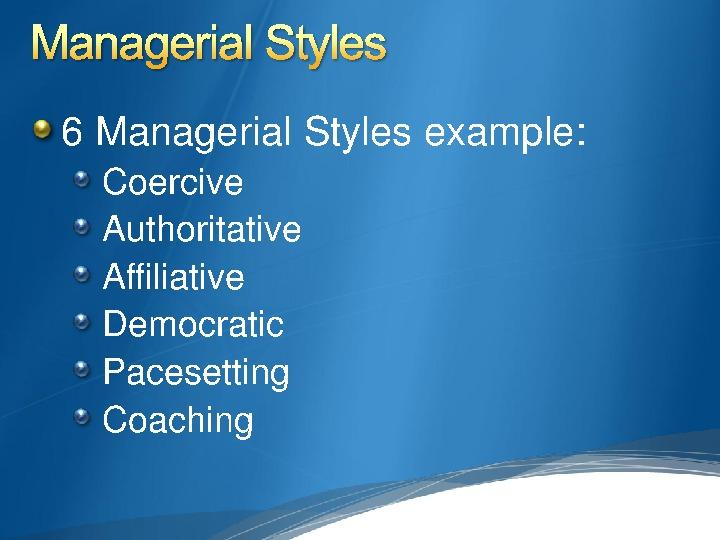paragraph: (26, 102, 653, 466)
title: (18, 12, 418, 76)
